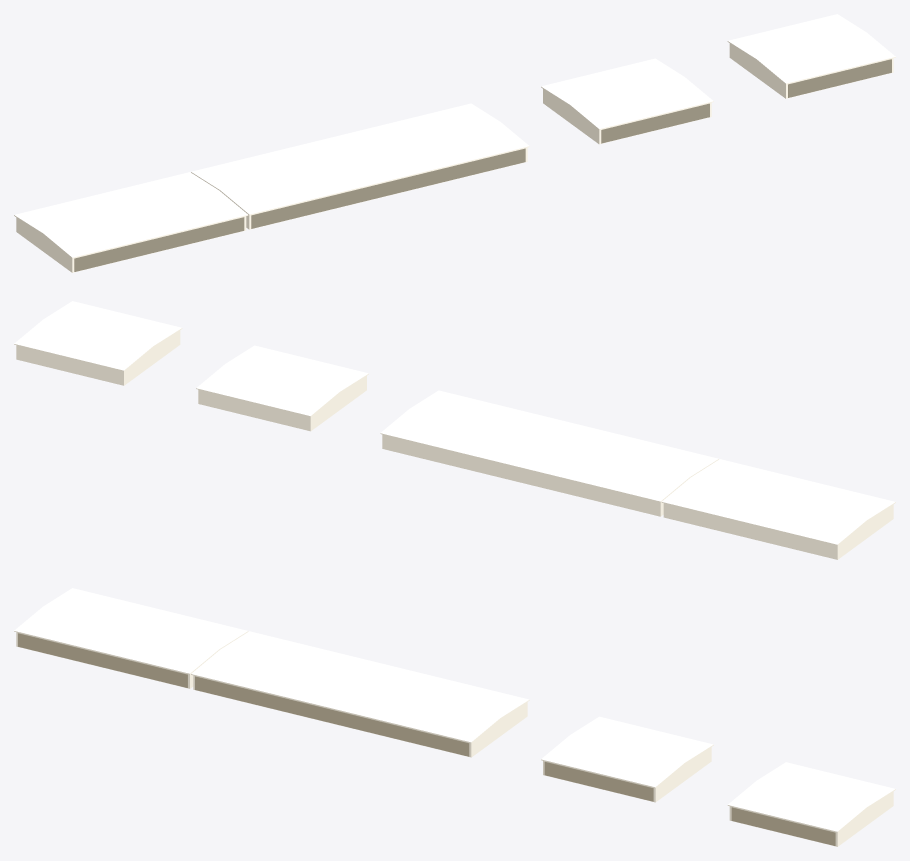
File: rbr_pit_tents2026.glb
3 renders of one model, top to bottom at view 1: azimuth 30°, elevation 25°; view 2: azimuth 150°, elevation 25°; view 3: azimuth 330°, elevation 25°, orthographic.
Parts seen in each view (by area): view 1: red-bull-ring-pit-roof-tents; view 2: red-bull-ring-pit-roof-tents; view 3: red-bull-ring-pit-roof-tents.
Boxes of the visible parts, box(x1,y1,x2,y2) form: red-bull-ring-pit-roof-tents: box(14, 14, 895, 272); red-bull-ring-pit-roof-tents: box(14, 301, 895, 559); red-bull-ring-pit-roof-tents: box(14, 588, 895, 846).
Size of the model in its own units: 161 by 3.6 by 19.8.
